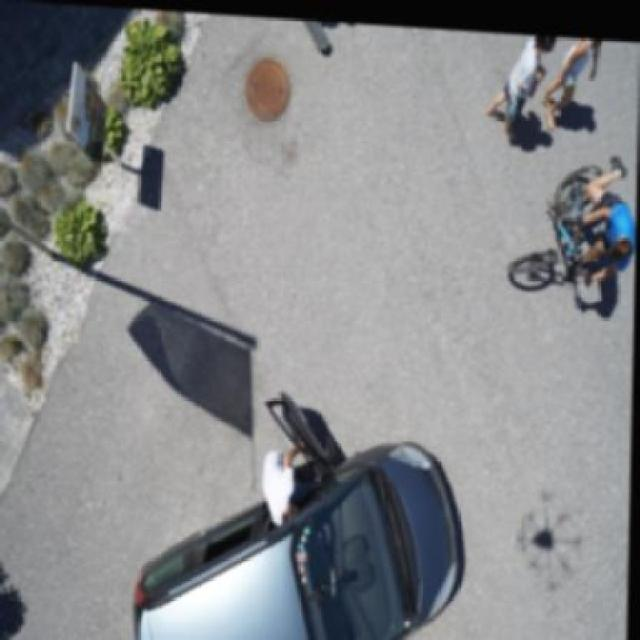Person: (574, 134, 638, 280), (489, 26, 558, 139), (545, 28, 604, 121)
